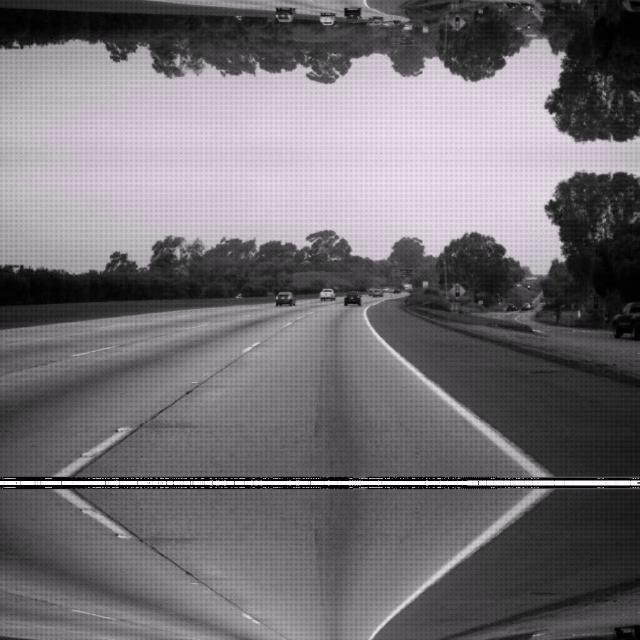signalAhead: (447, 280, 465, 300), (447, 13, 465, 32)
